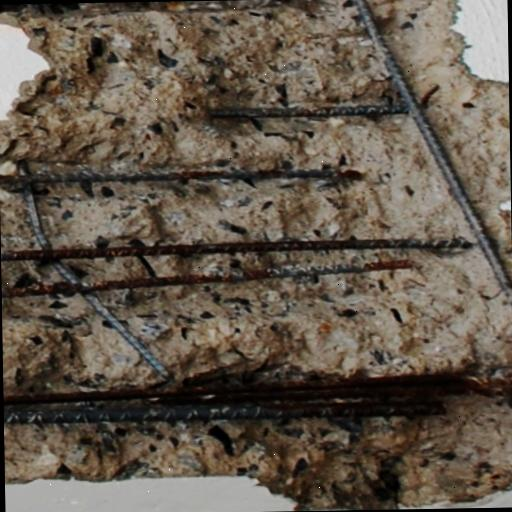spalling: (0, 2, 512, 511)
